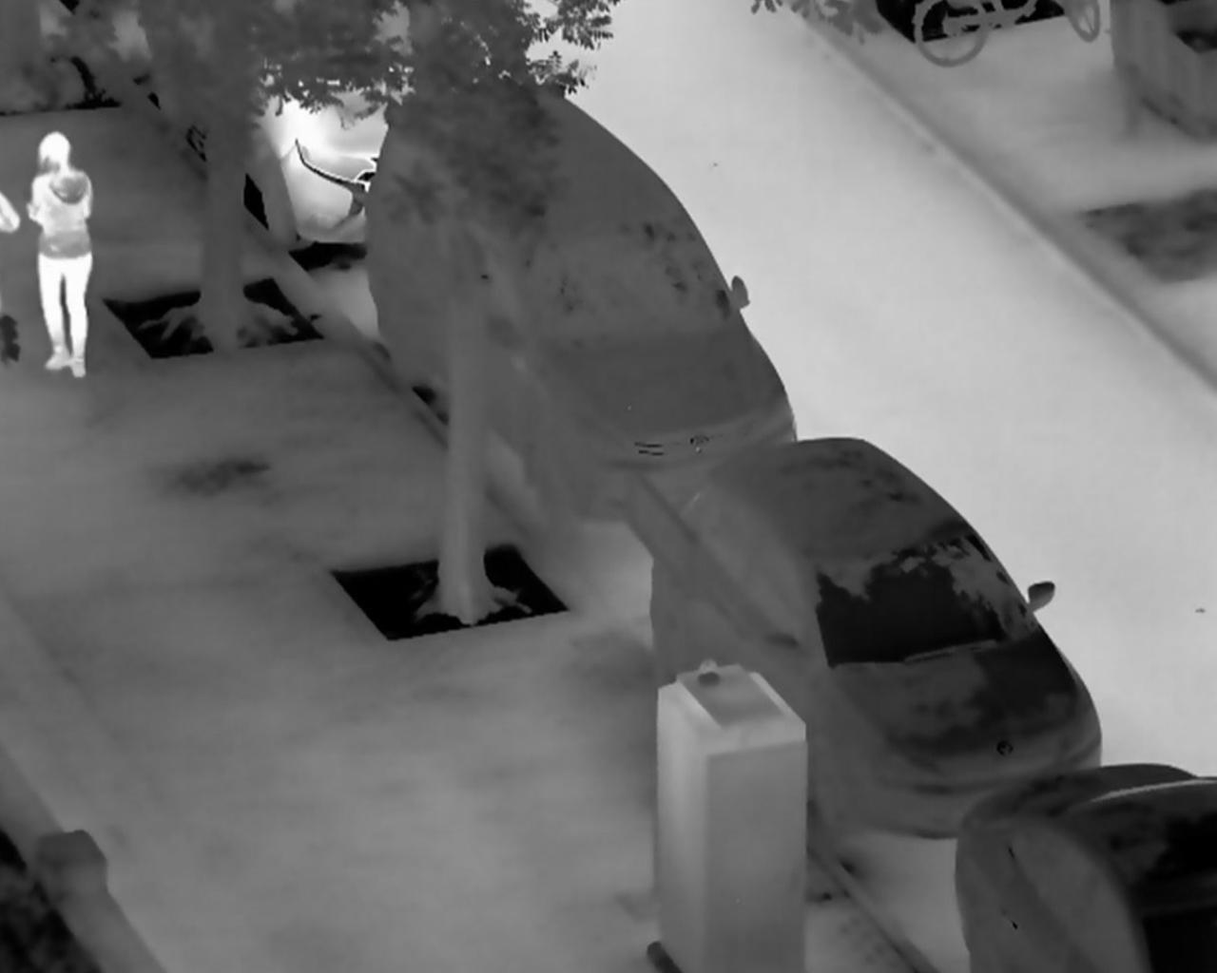person: (26, 129, 97, 380)
